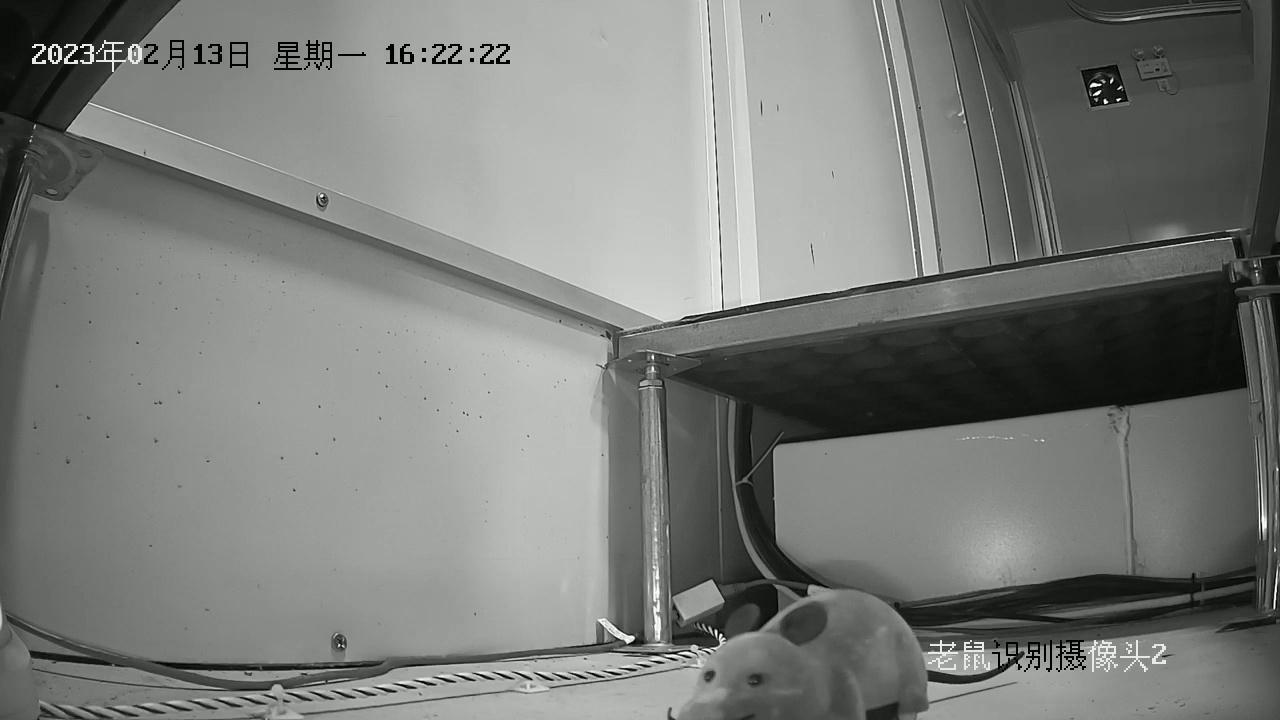rat: (672, 589, 1025, 720)
